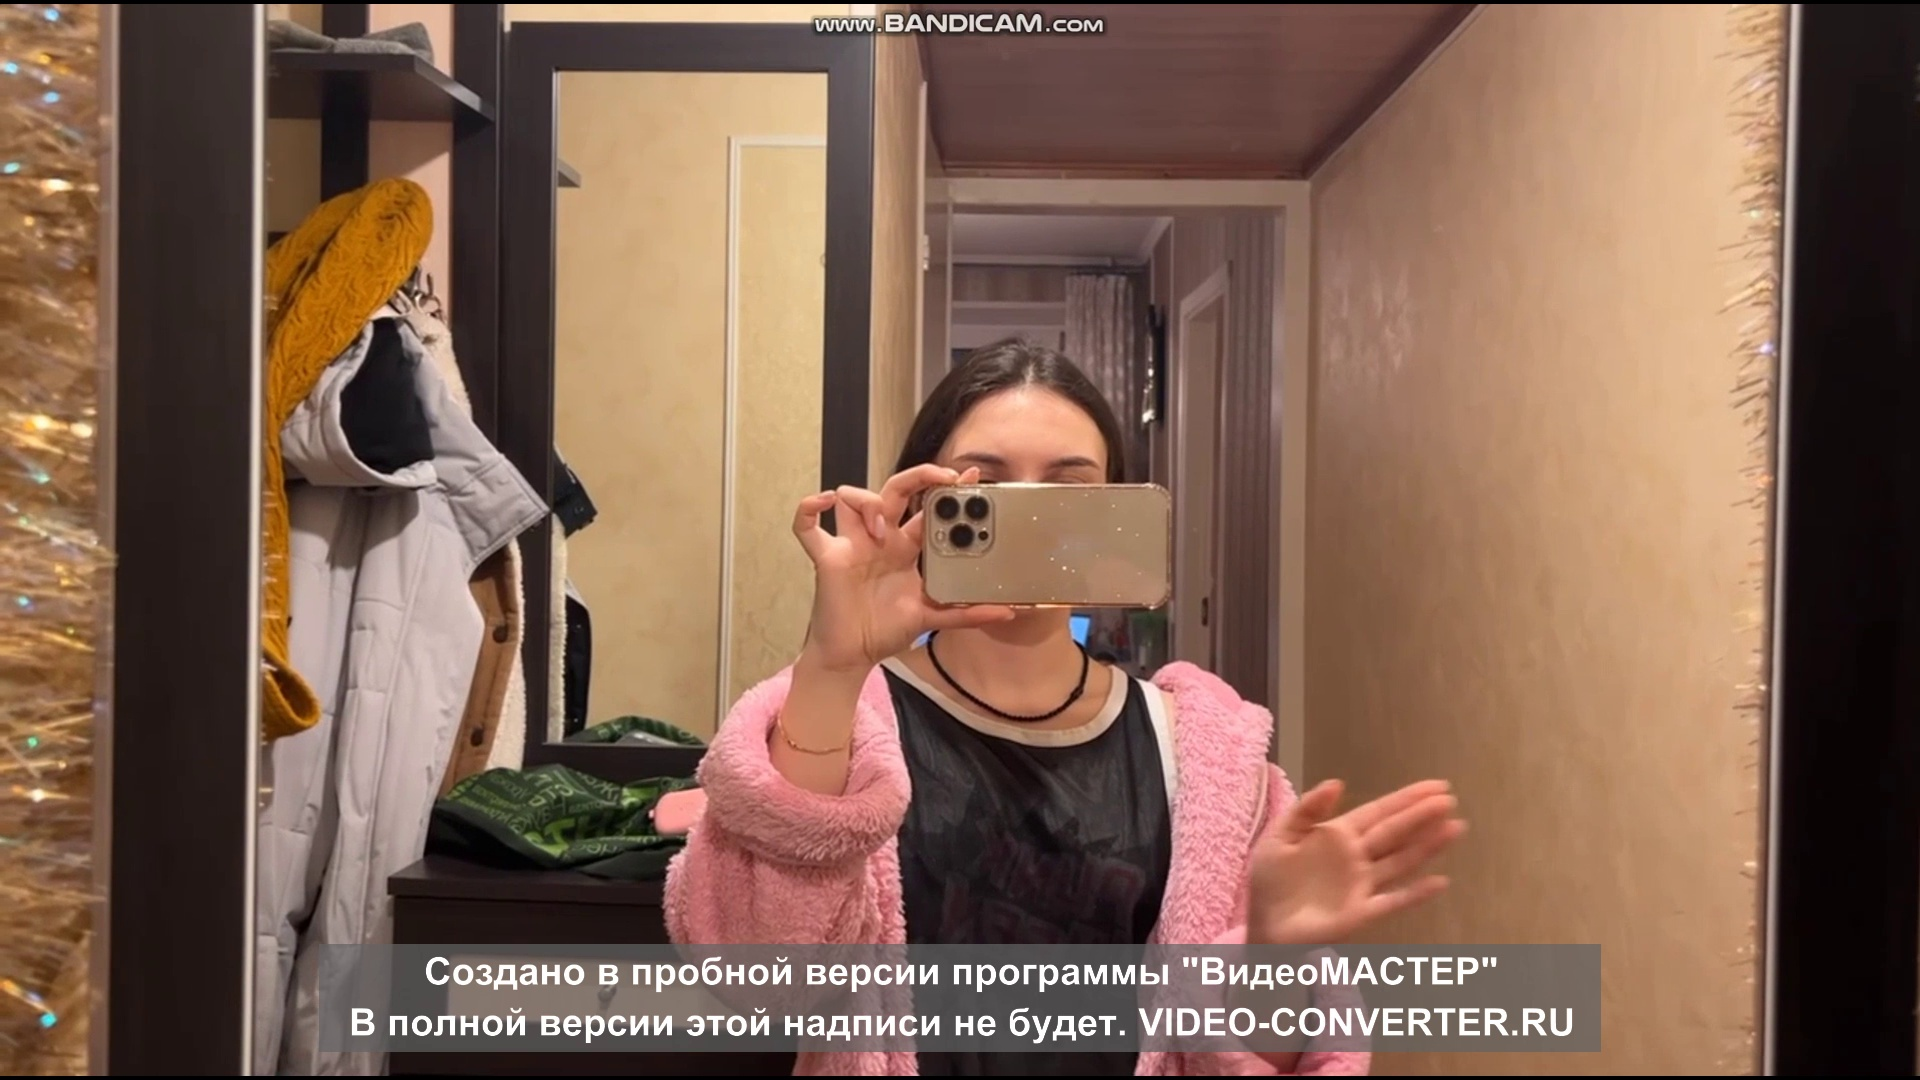Ладонь: (1241, 778, 1468, 935)
